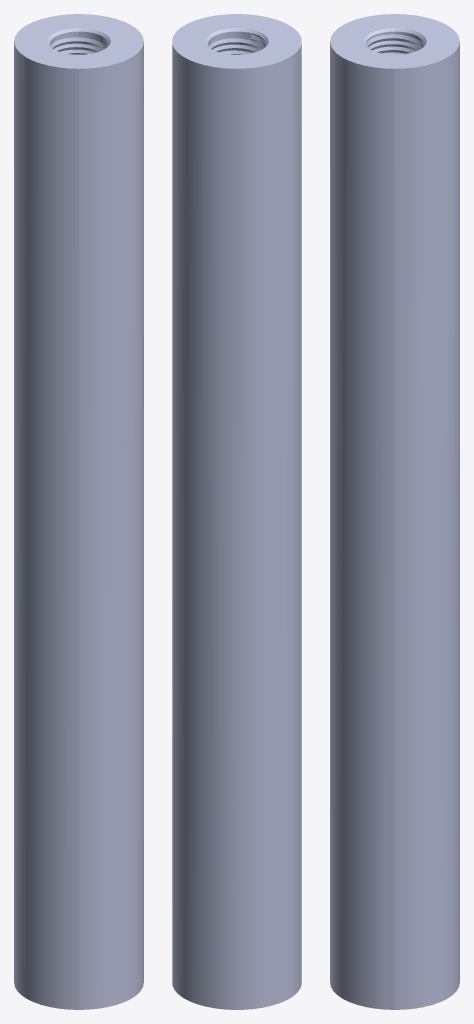
3 renders of one model, left to right at view 1: azimuth 90°, elevation 25°; view 2: azimuth 150°, elevation 25°; view 3: azimuth 270°, elevation 25°, orthographic.
Parts seen in each view (by area): view 1: keystone-PN3484; view 2: keystone-PN3484; view 3: keystone-PN3484.
Boxes of the visible parts, x1,y1,x2,y2 form: keystone-PN3484: [14, 14, 143, 1009]; keystone-PN3484: [172, 14, 301, 1009]; keystone-PN3484: [330, 14, 459, 1009].
Bounding box in the file's own units: 6.35 × 50.8 × 6.35.
